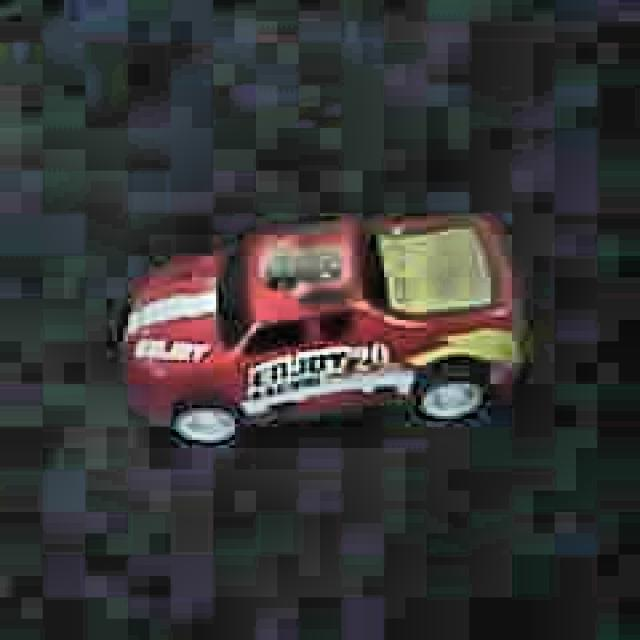car: (111, 203, 523, 452)
